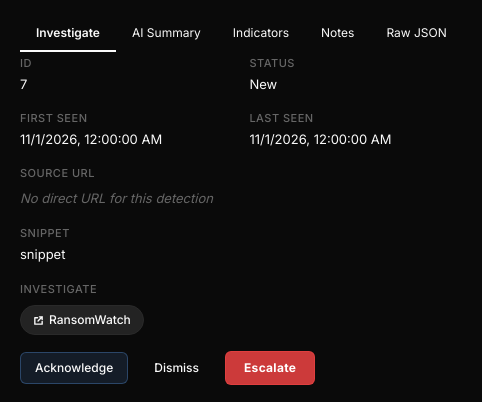
DetectionDetail Raw tab › sends one request, caches it, and shows the data
This screenshot has width=482, height=402.
Click the button "Raw JSON". click: point(417, 34)
box: x1=370 y1=16 x2=463 y2=52
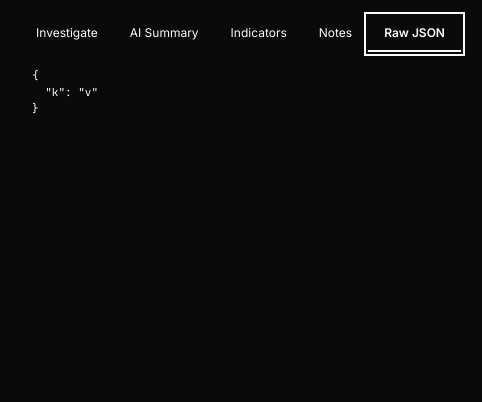
Check: the text "{ \"k\": \"v\" }" is shown, box x1=20 y1=55 x2=461 y2=128
Click the button "Investigate". click: point(67, 34)
box: x1=20 y1=16 x2=114 y2=52
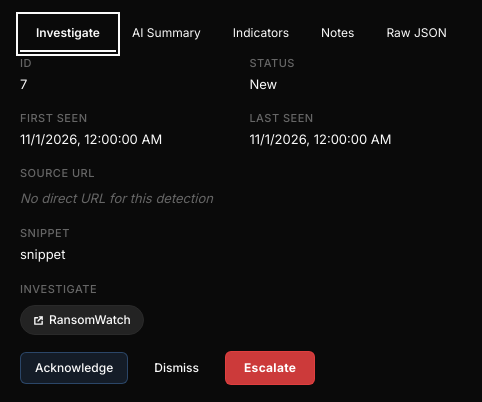
Click the button "Raw JSON". click: point(417, 34)
box: x1=370 y1=16 x2=463 y2=52
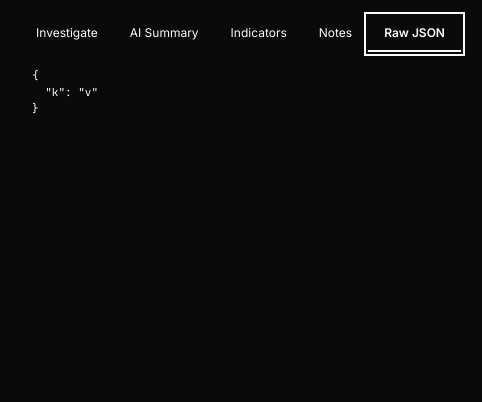
Check: the text "{ \"k\": \"v\" }" is shown, box x1=20 y1=55 x2=461 y2=128
